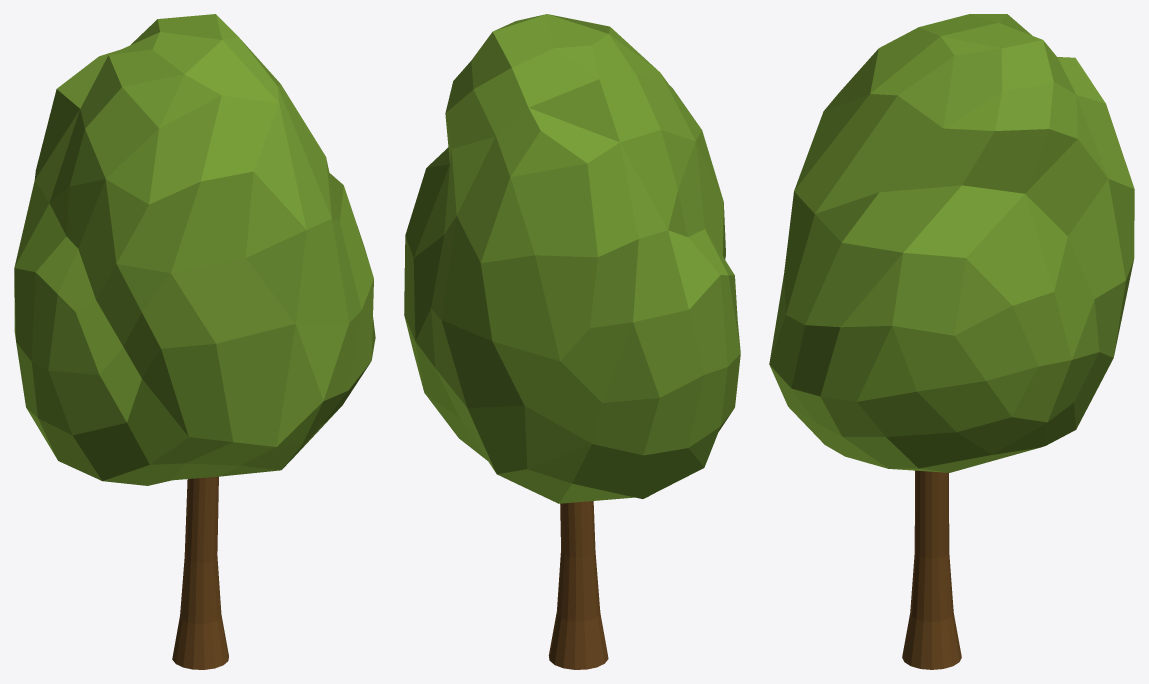
Rendered from tree_003.fbx.
The picture shows the model from 3 angles, left to right: view 1: azimuth 30°, elevation 25°; view 2: azimuth 150°, elevation 25°; view 3: azimuth 270°, elevation 25°; orthographic projection. The views are drawn at different scales.
Visible parts, largest first — view 1: tree.003; view 2: tree.003; view 3: tree.003.
Boxes of the visible parts, left/top/right/bottom form: tree.003: left=14, top=14, right=375, bottom=669; tree.003: left=404, top=14, right=740, bottom=669; tree.003: left=769, top=14, right=1134, bottom=669.
Bounding box in the file's own units: 922 × 1784 × 932.
